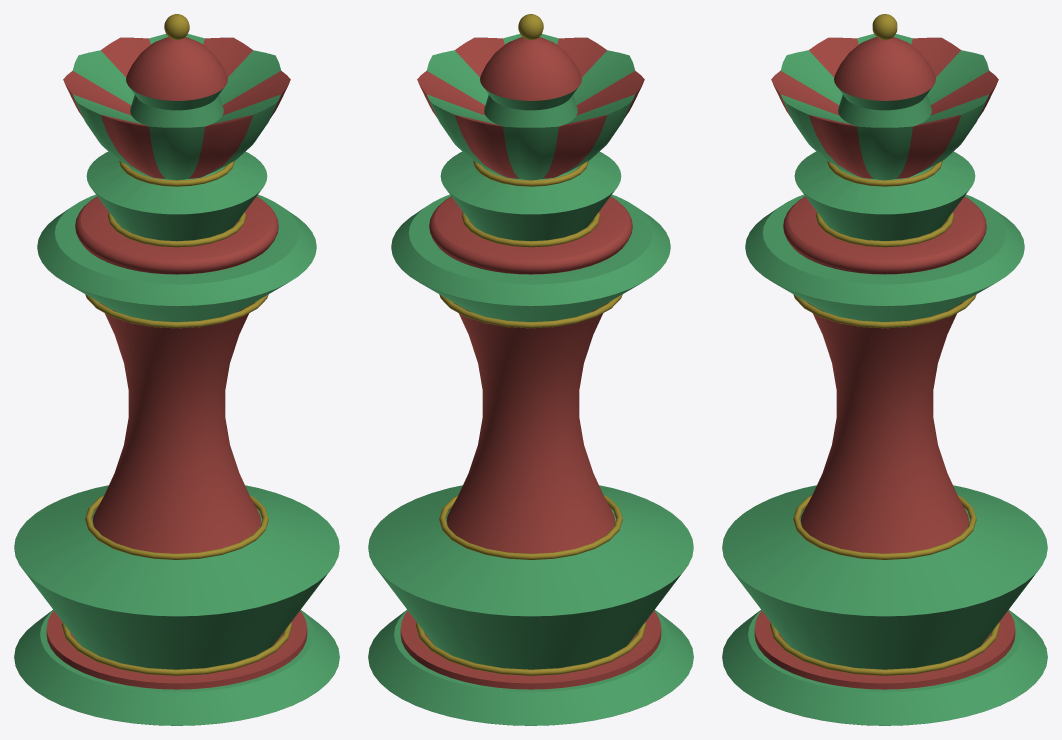
Rendered from Queen_fbx.fbx.
3 views of the same model, side by side, from view 1: azimuth 30°, elevation 25°; view 2: azimuth 150°, elevation 25°; view 3: azimuth 270°, elevation 25° (orthographic).
Parts seen in each view (by area): view 1: Queen; view 2: Queen; view 3: Queen.
Boxes of the visible parts, x1,y1,x2,y2 form: Queen: [14, 14, 339, 725]; Queen: [368, 14, 693, 725]; Queen: [722, 14, 1047, 725].
Size of the model in its own units: 0.0391 by 0.085 by 0.0391.
